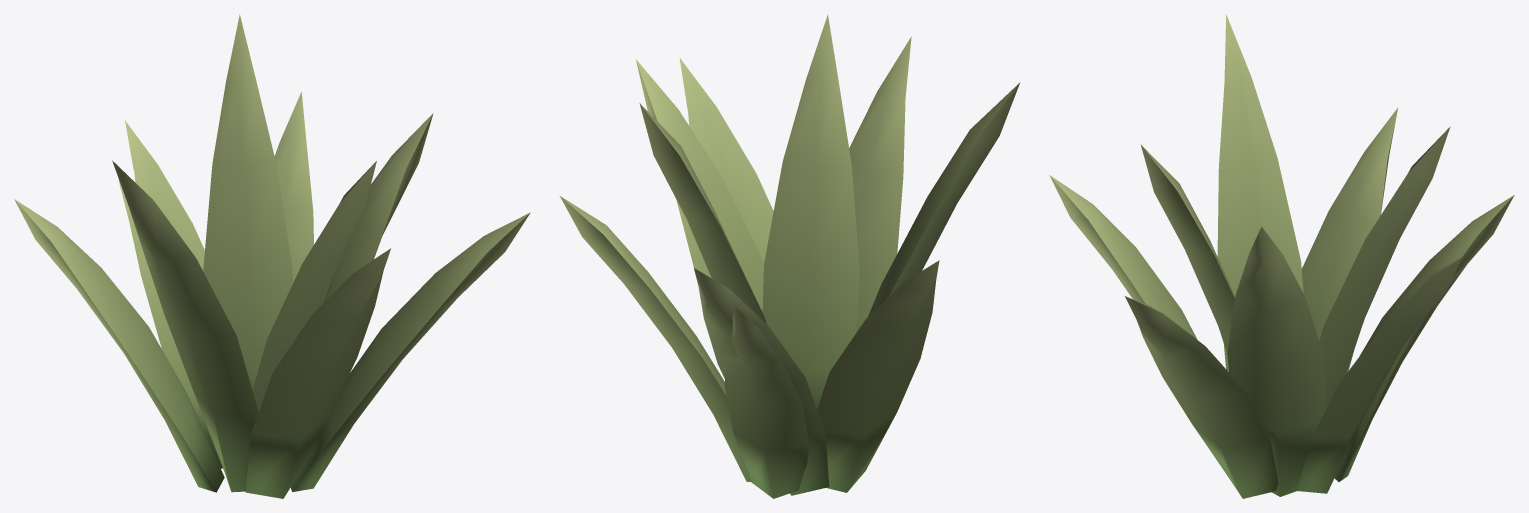
File: grass_tall_b.glb
The picture shows the model from 3 angles, left to right: view 1: azimuth 30°, elevation 25°; view 2: azimuth 150°, elevation 25°; view 3: azimuth 270°, elevation 25°; orthographic projection. The views are drawn at different scales.
Parts seen in each view (by area): view 1: Grass_Tall_B.001; view 2: Grass_Tall_B.001; view 3: Grass_Tall_B.001.
Boxes of the visible parts, x1,y1,x2,y2 form: Grass_Tall_B.001: [14, 14, 530, 498]; Grass_Tall_B.001: [560, 14, 1020, 498]; Grass_Tall_B.001: [1049, 15, 1514, 498].
Size of the model in its own units: 0.5046 by 0.4965 by 0.5402.
